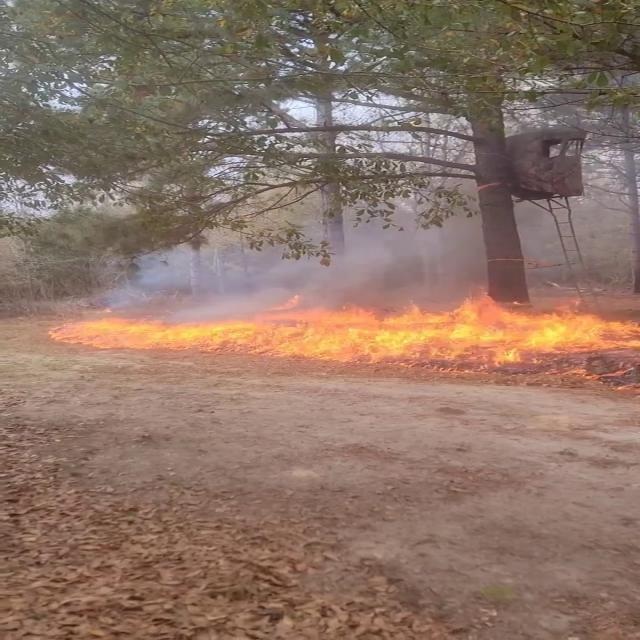Fire: (49, 294, 638, 362)
Smoke: (90, 199, 640, 309)
